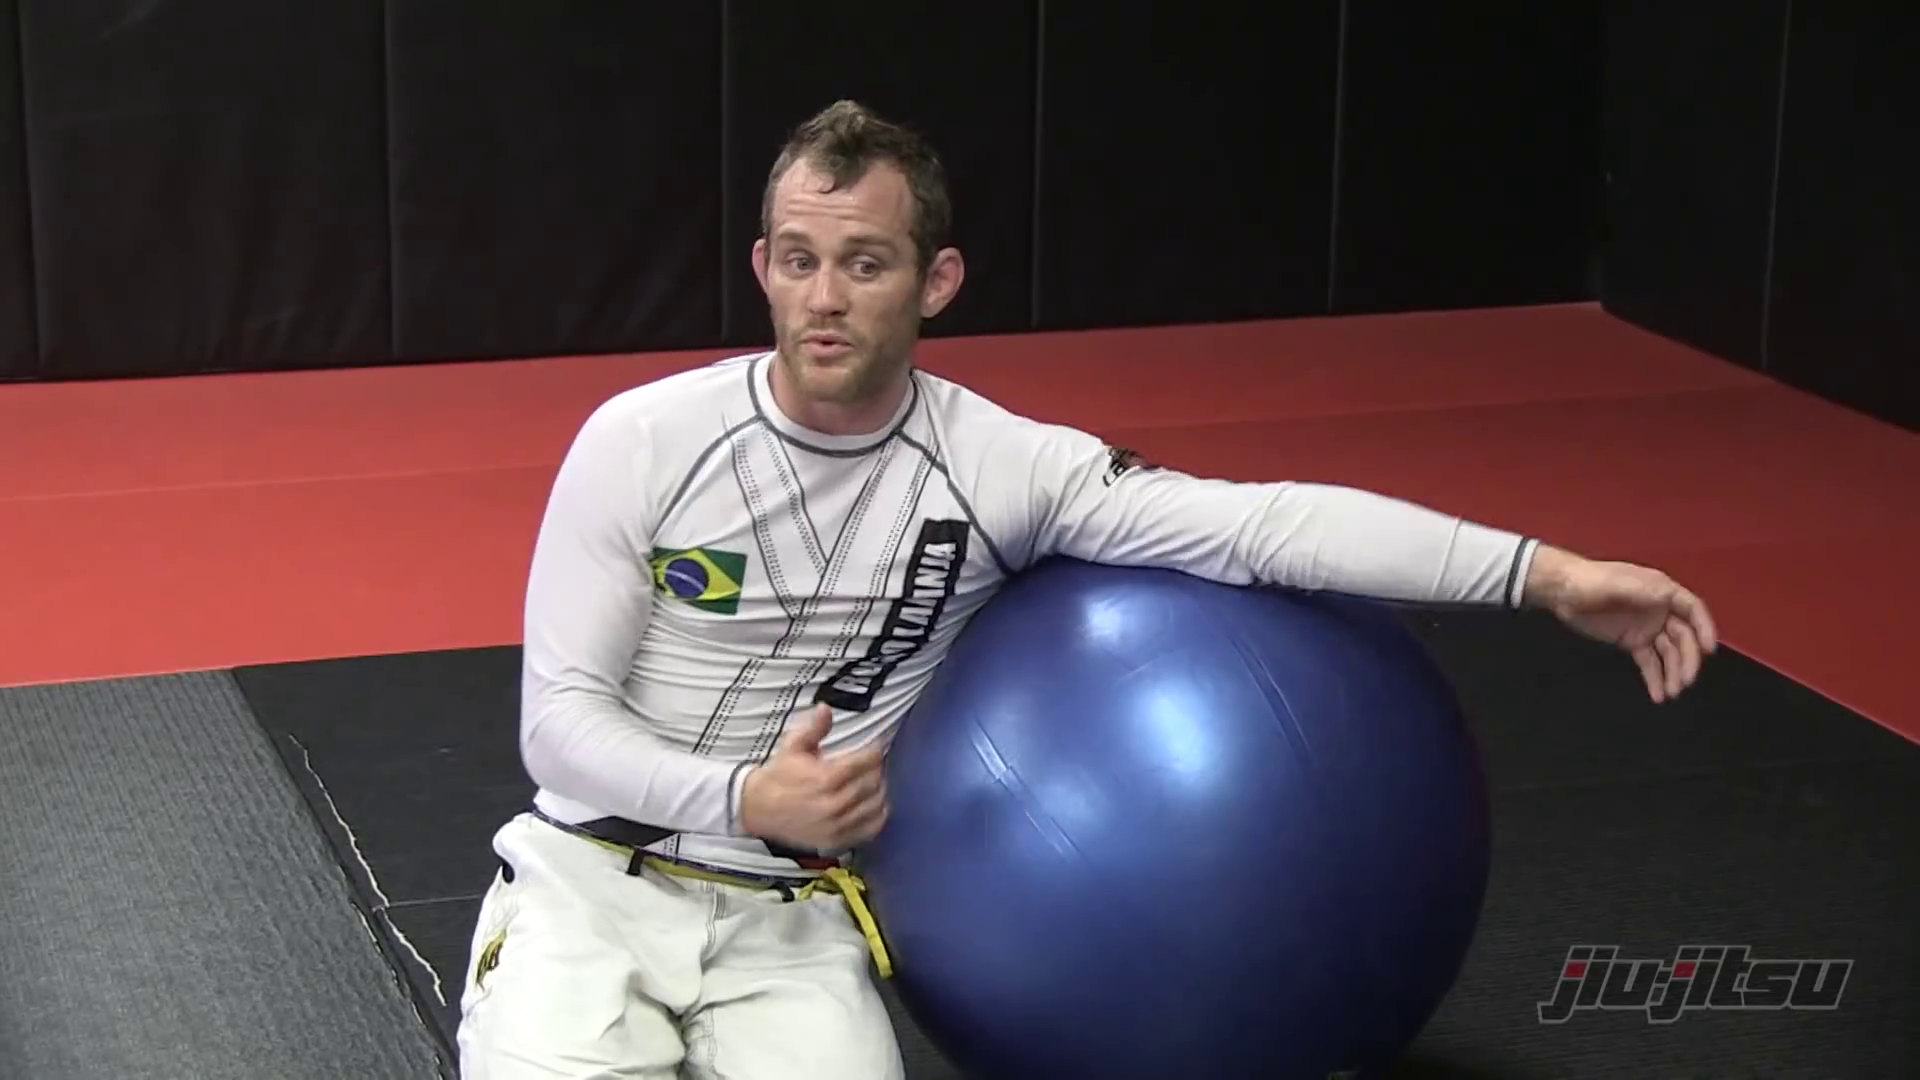yogaball: (803, 520, 1509, 1080)
